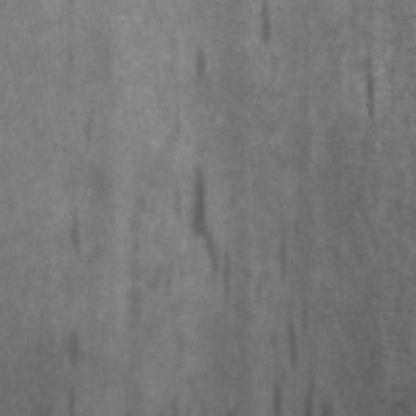inclusion: (260, 214, 324, 416), (154, 162, 237, 298), (343, 50, 389, 133), (56, 202, 88, 264), (57, 322, 86, 374)
